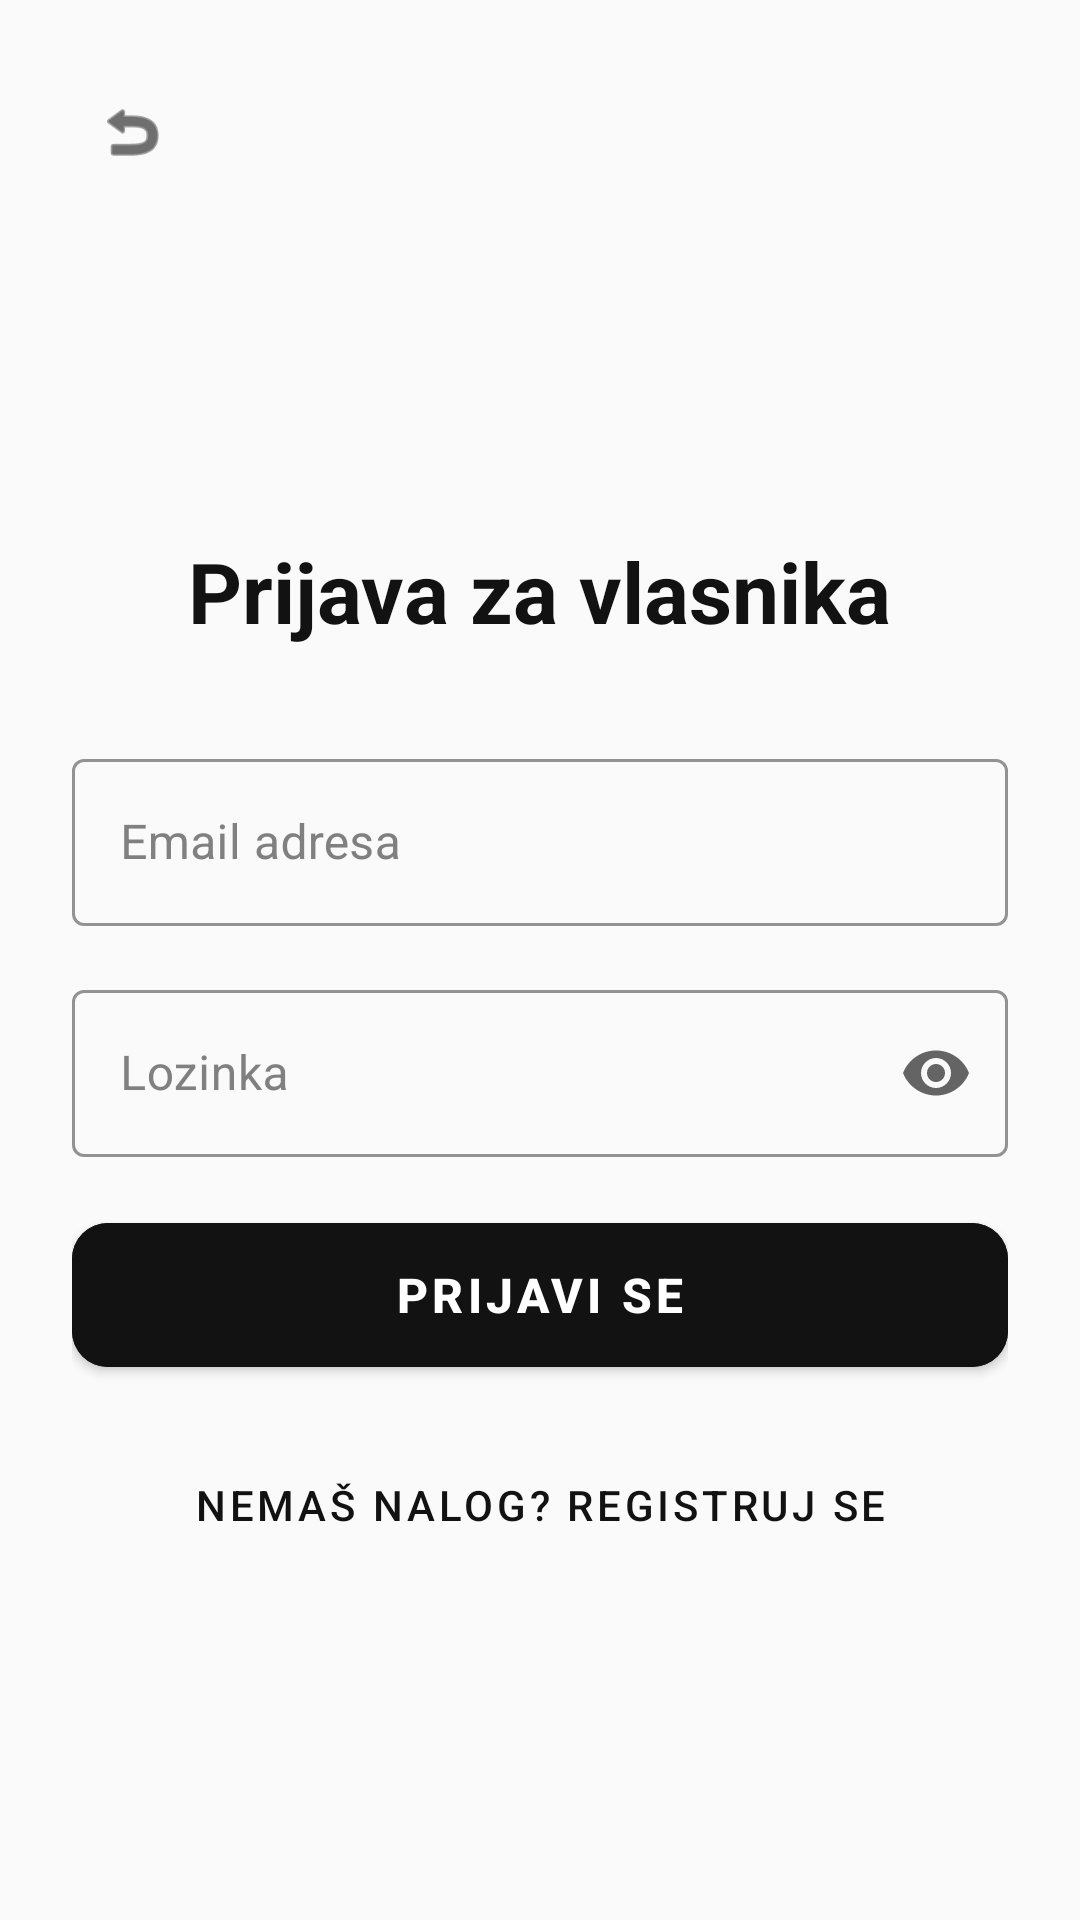

Named icons in this screenshot (1080w x 1920h) and their centers, (x,y):
Nazad: (133,132)
